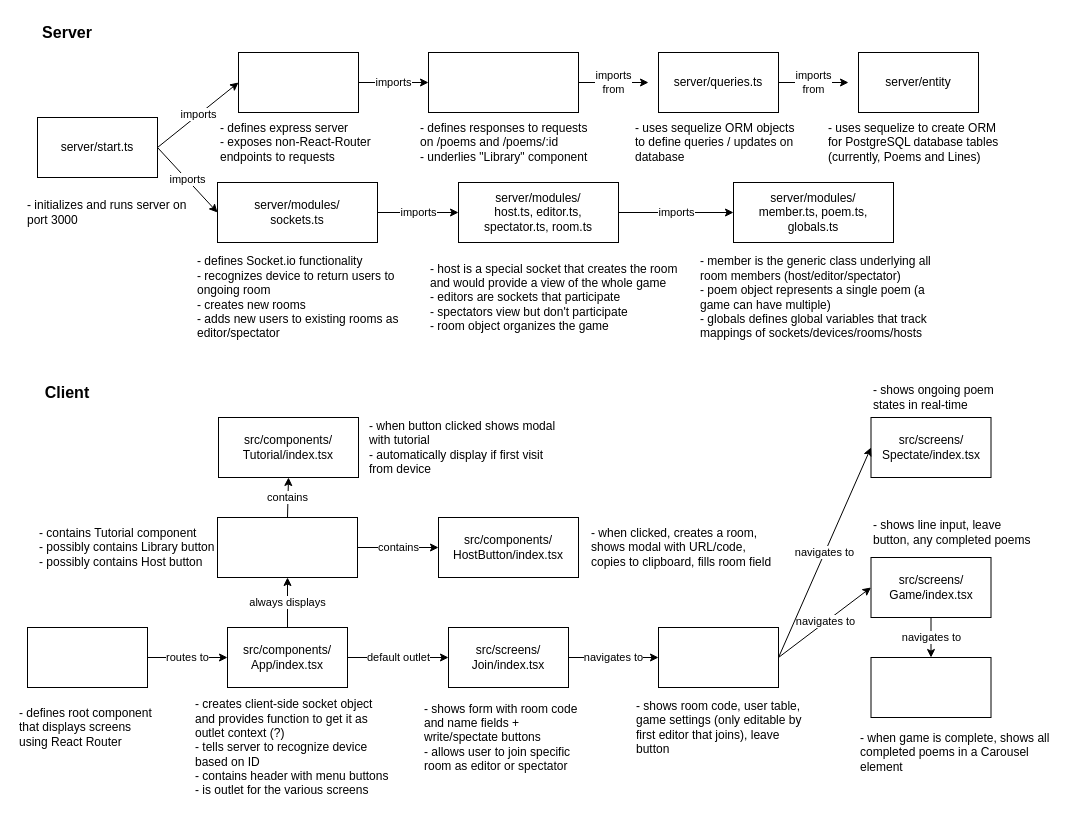
This 1075x815 diagram has some shape labels left out. The shapes that lost their labels are listed below. From the top down, each one's box as (x1, y1, x2, y2) in pixels, then its label:
(238, 52, 358, 112): server/app.ts
(428, 52, 578, 112): server/routes/poems.ts
(216, 516, 358, 578): src/components/ MenuButtons/index.tsx
(26, 626, 148, 688): src/index.tsx
(658, 626, 778, 688): src/screens/ Lobby/index.tsx
(870, 656, 991, 718): src/screens/ End/index.tsx
